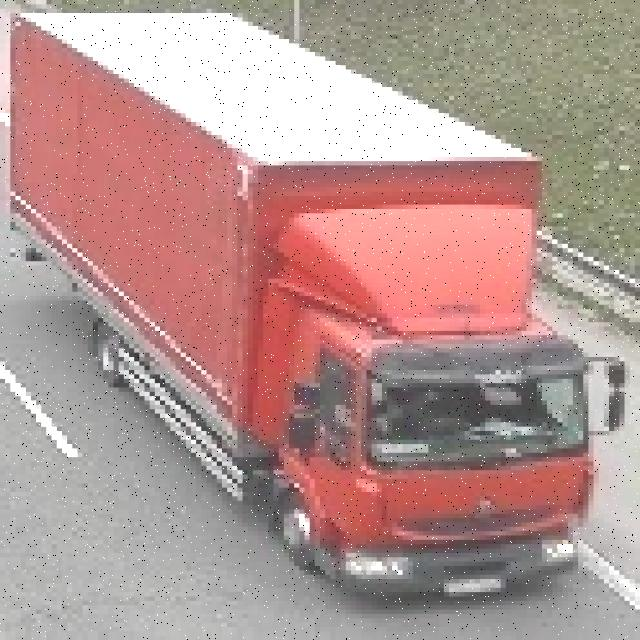truck: (0, 4, 619, 596)
